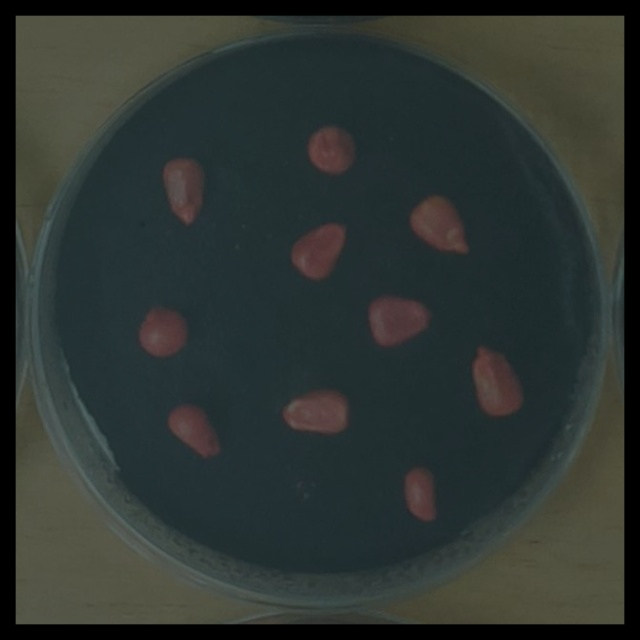Zea mays: (463, 336, 531, 424), (401, 187, 475, 262), (360, 286, 440, 355), (283, 212, 356, 286), (274, 380, 357, 441), (160, 395, 228, 464), (131, 297, 197, 366), (155, 149, 210, 231), (300, 118, 362, 180), (396, 457, 444, 527)
